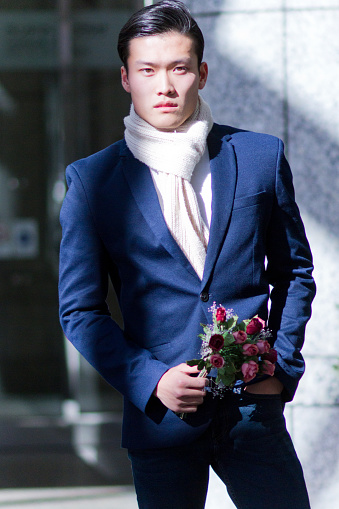em pe: (40, 6, 310, 500)
